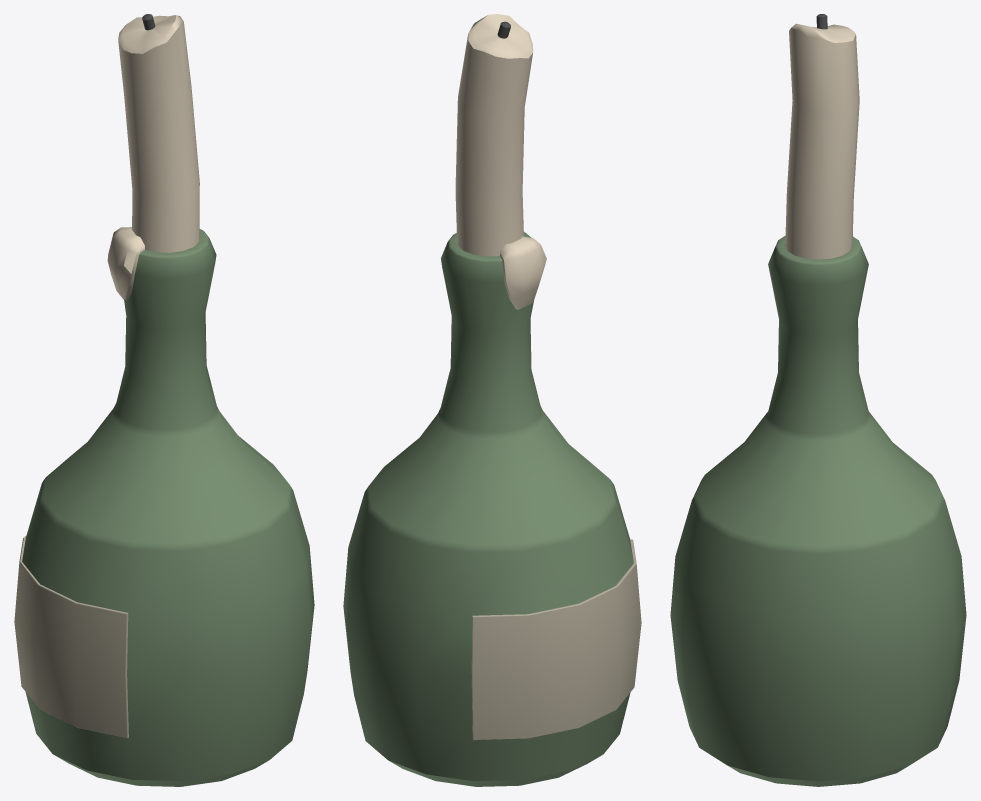
The model's file is FlaskCandle_01.fbx.
3 views of the same model, side by side, from view 1: azimuth 30°, elevation 25°; view 2: azimuth 150°, elevation 25°; view 3: azimuth 270°, elevation 25° (orthographic).
Visible parts, largest first — view 1: FlaskCandle; view 2: FlaskCandle; view 3: FlaskCandle.
Part boxes in pixels (bbox=[...]): FlaskCandle: bbox=[14, 14, 314, 786]; FlaskCandle: bbox=[343, 14, 641, 786]; FlaskCandle: bbox=[670, 14, 966, 786].
Size of the model in its own units: 12.99 by 34.46 by 12.87.
